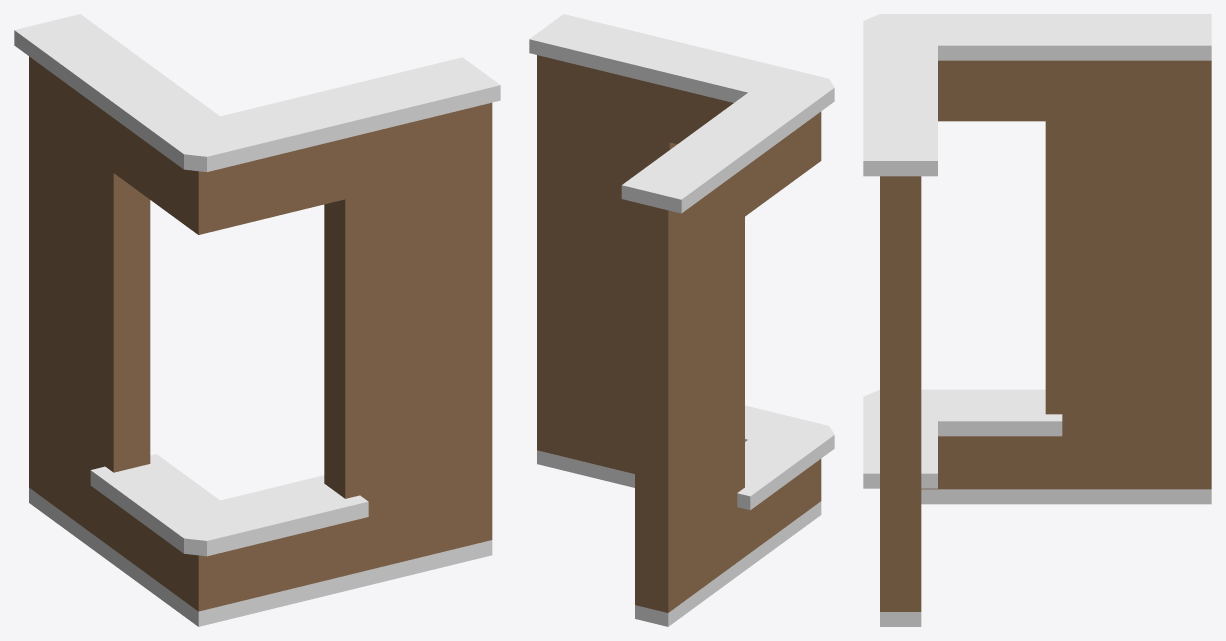
The model's file is SM_200x300_Window_Corner.fbx.
3 views of the same model, side by side, from view 1: azimuth 30°, elevation 25°; view 2: azimuth 150°, elevation 25°; view 3: azimuth 270°, elevation 25° (orthographic). The views are drawn at different scales.
Visible parts, largest first — view 1: SM_200x300_Window_Corner; view 2: SM_200x300_Window_Corner; view 3: SM_200x300_Window_Corner.
Boxes of the visible parts, <box> form: SM_200x300_Window_Corner: <box>14,14,500,626</box>; SM_200x300_Window_Corner: <box>529,14,834,626</box>; SM_200x300_Window_Corner: <box>863,14,1211,626</box>.
Size of what is drawn, in the model's own units: 210 by 210 by 310.
